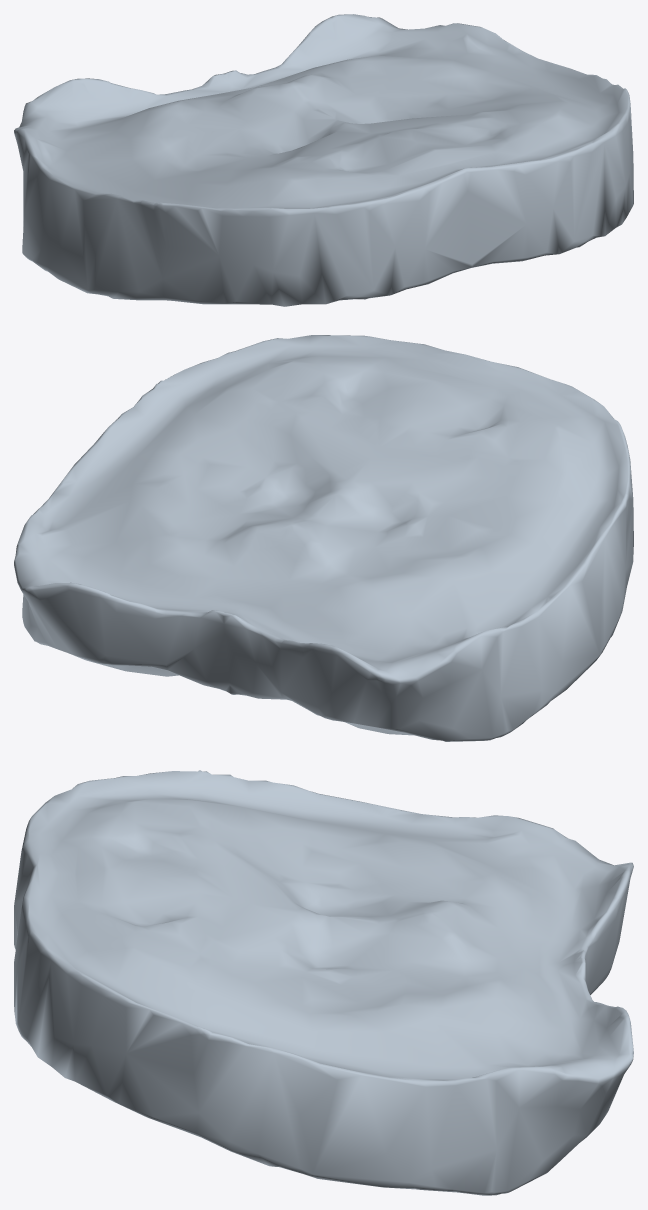
The model's file is intervertebral-disc-t8-t9.glb.
3 renders of one model, top to bottom at view 1: azimuth 30°, elevation 25°; view 2: azimuth 150°, elevation 25°; view 3: azimuth 270°, elevation 25°, orthographic. The views are drawn at different scales.
Visible parts, largest first — view 1: Intervertebral disc T8-T9; view 2: Intervertebral disc T8-T9; view 3: Intervertebral disc T8-T9.
Part boxes in pixels (bbox=[...]): Intervertebral disc T8-T9: bbox=[14, 14, 633, 306]; Intervertebral disc T8-T9: bbox=[14, 335, 633, 741]; Intervertebral disc T8-T9: bbox=[14, 770, 633, 1195].
Bounding box in the file's own units: 0.0382 × 0.0134 × 0.0354.
